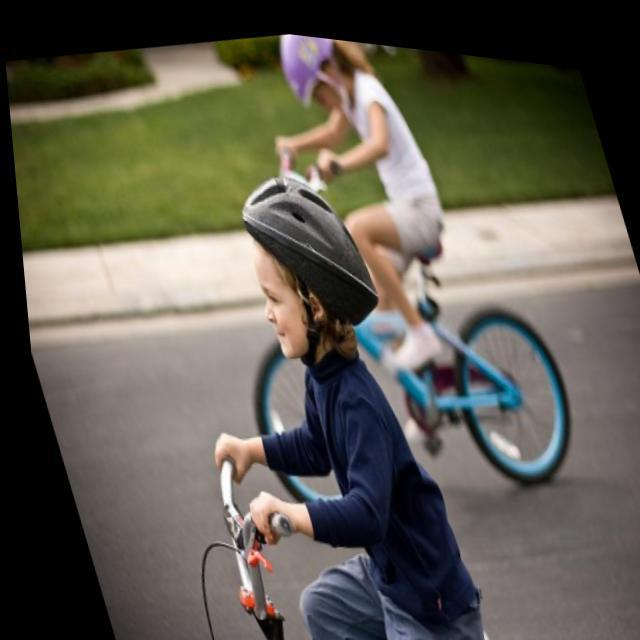Helmet: (239, 162, 389, 373)
